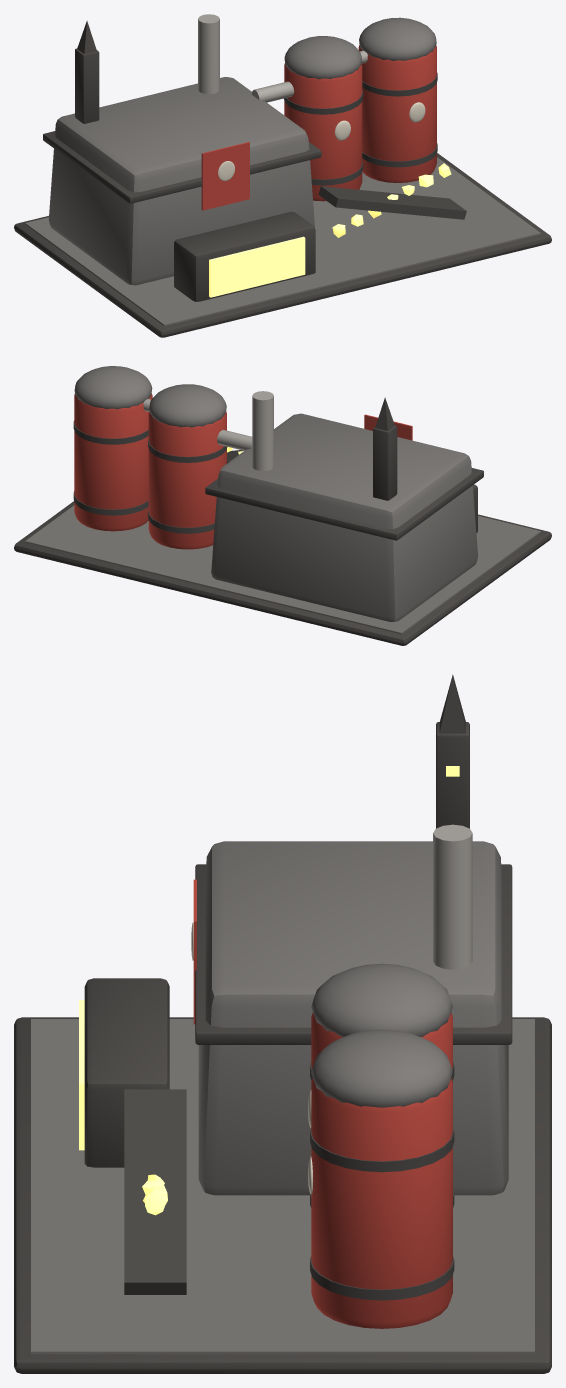
The model's file is refinery_hum.glb.
The picture shows the model from 3 angles, top to bottom: view 1: azimuth 30°, elevation 25°; view 2: azimuth 150°, elevation 25°; view 3: azimuth 270°, elevation 25°; orthographic projection. The views are drawn at different scales.
Parts seen in each view (by area): view 1: refinery_hum; view 2: refinery_hum; view 3: refinery_hum.
Boxes of the visible parts, x1,y1,x2,y2 form: refinery_hum: [14, 14, 551, 337]; refinery_hum: [14, 366, 551, 645]; refinery_hum: [14, 674, 551, 1373].
Size of the model in its own units: 2.9 by 1.55 by 1.9.
